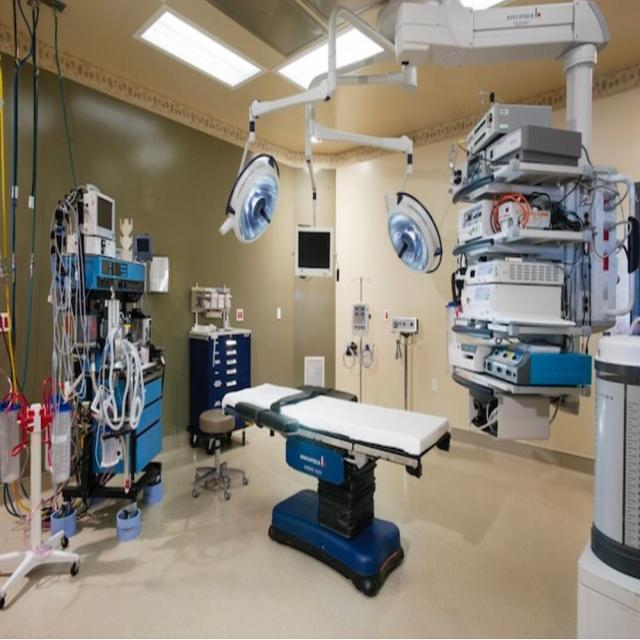lightings: (233, 159, 284, 265), (384, 202, 442, 286)
patient_bed: (225, 373, 450, 512)
ventilator: (47, 171, 173, 501), (456, 118, 594, 412)
